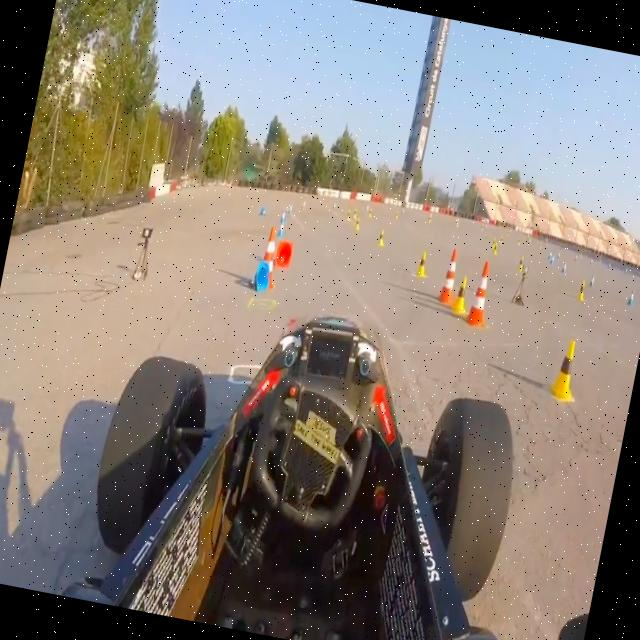large_orange_cone: (468, 260, 497, 327), (438, 242, 464, 302), (259, 228, 282, 284)
yellow_cone: (548, 331, 590, 411), (454, 276, 474, 318), (416, 247, 437, 283), (375, 226, 387, 248)
